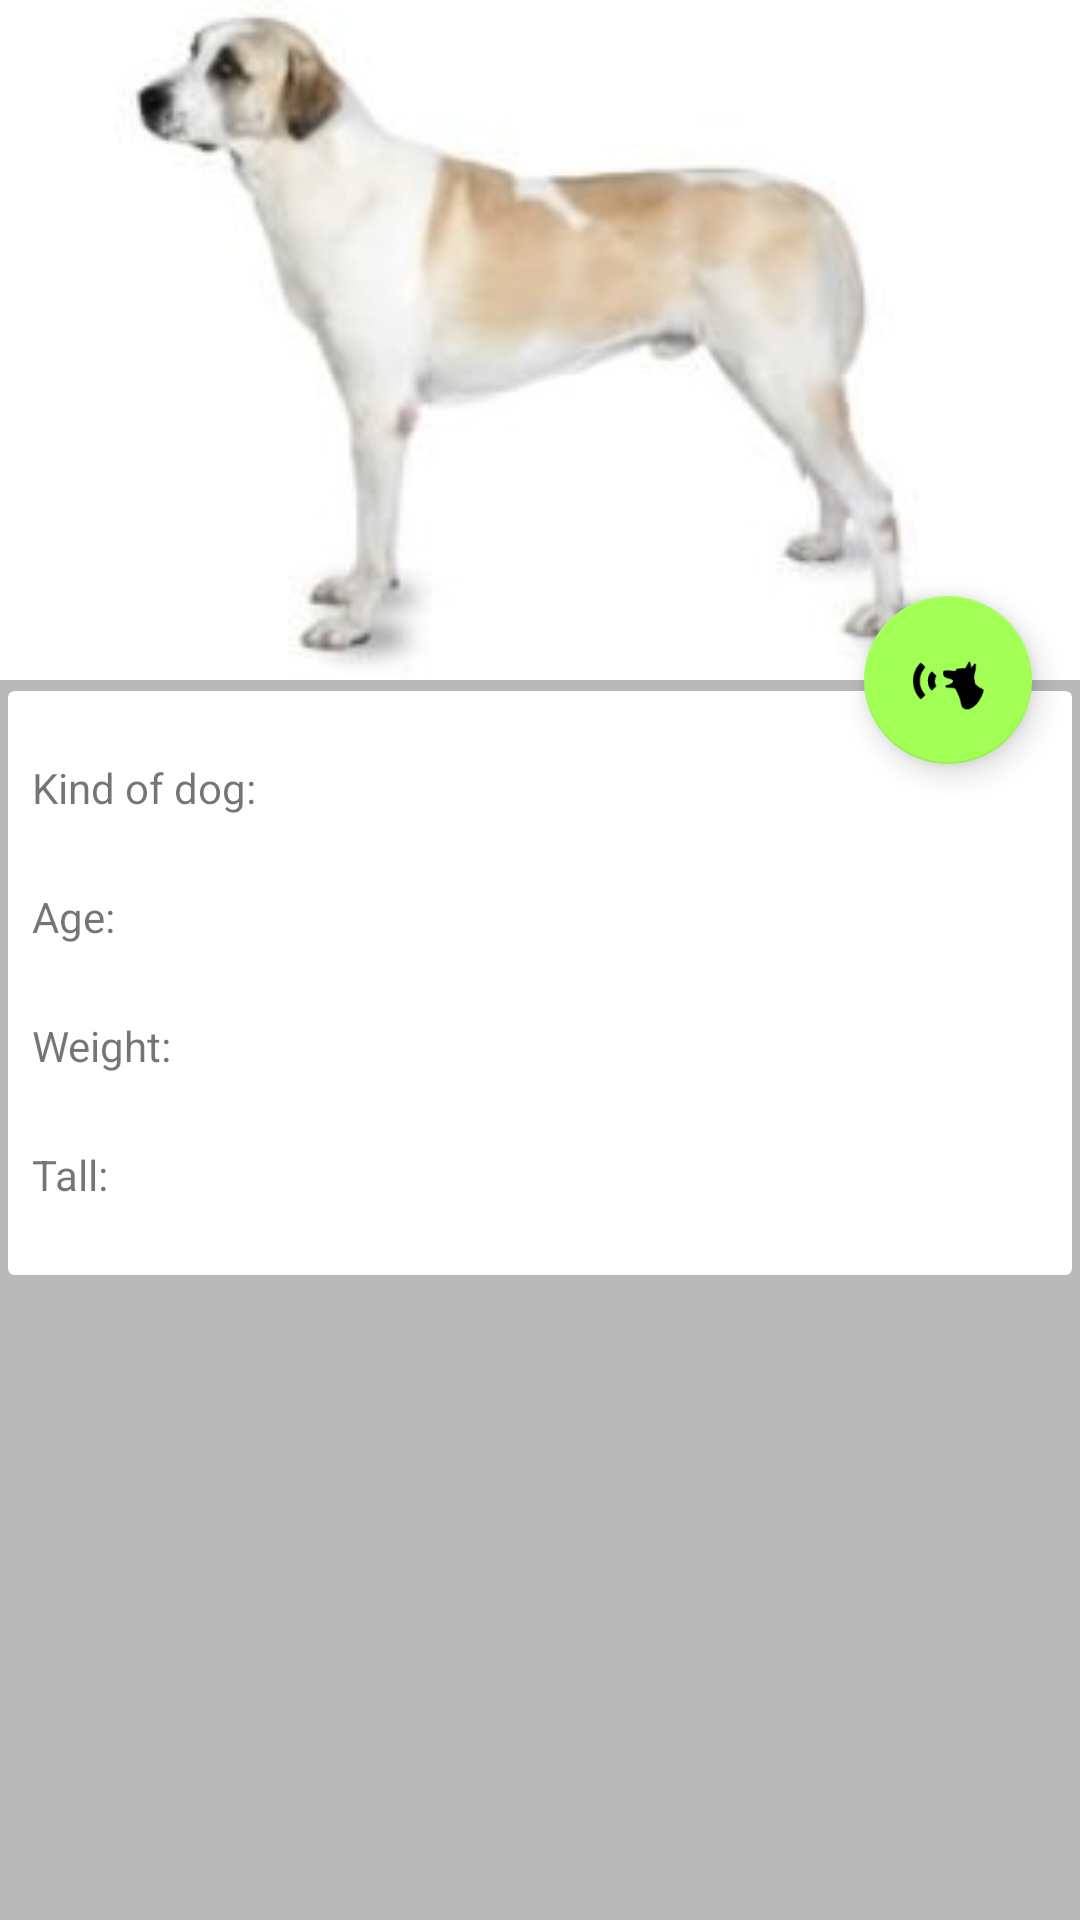

Icon bounding boxes for this 1080×1920 phone screenshot, format (x1, y1, x2, y2):
dog barks: (864, 596, 1032, 764)
